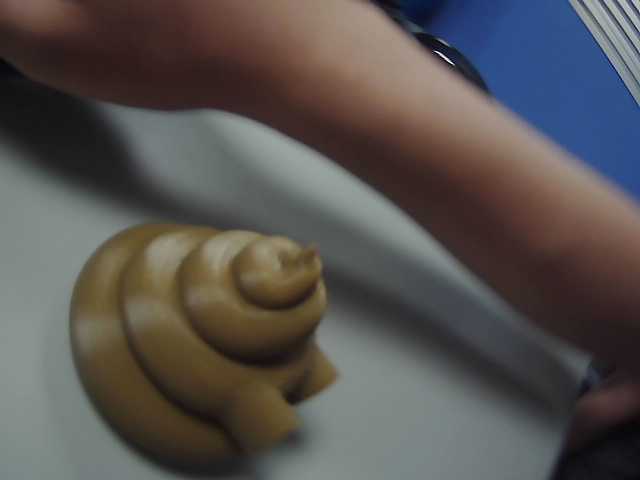shit: (53, 215, 344, 472)
